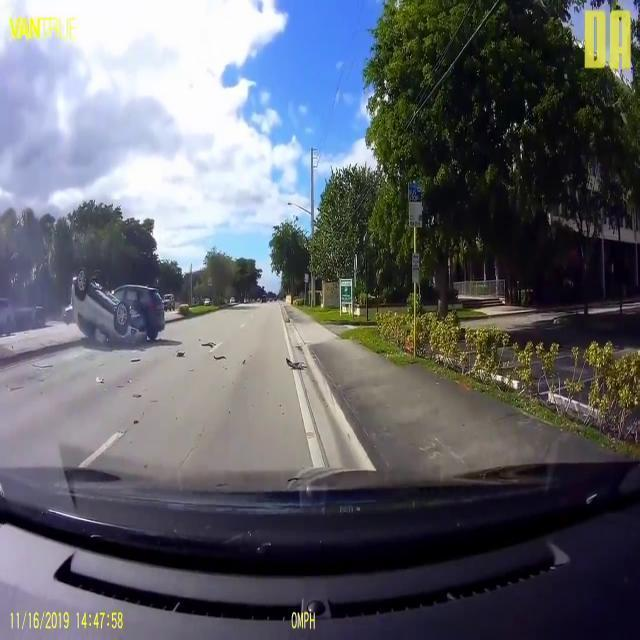accident: (67, 266, 166, 352)
